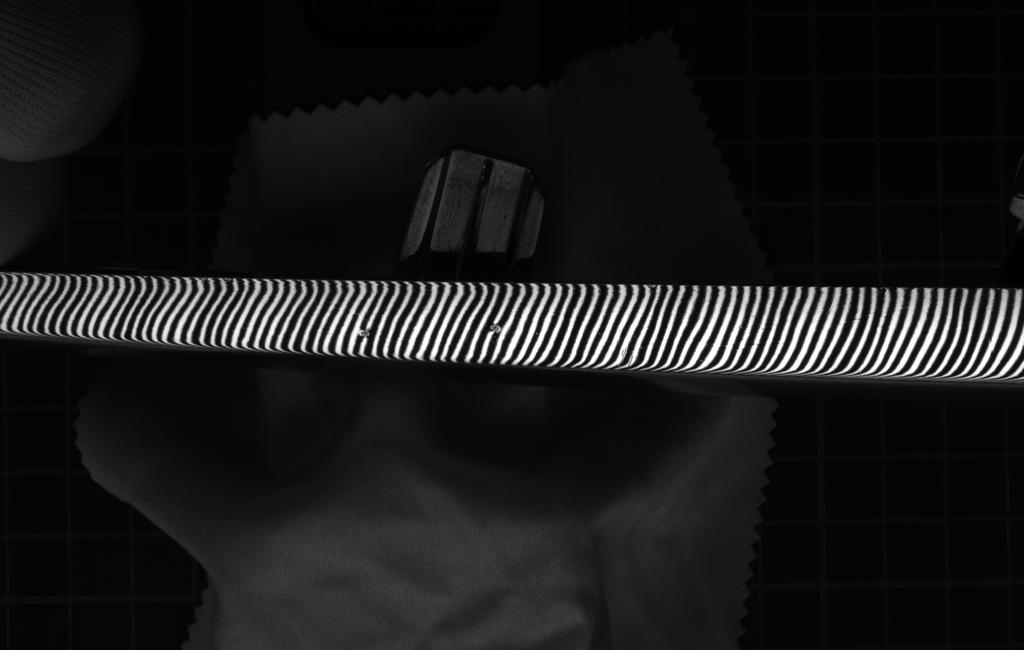Pierced: (352, 324, 377, 344), (485, 317, 503, 340)
